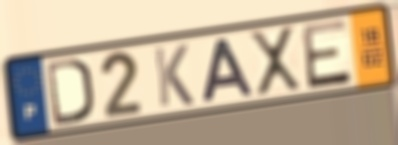2: (100, 48, 148, 122)
A: (199, 36, 256, 105)
D: (44, 56, 95, 129)
E: (299, 17, 355, 92)
K: (151, 42, 197, 110)
X: (246, 24, 304, 100)
